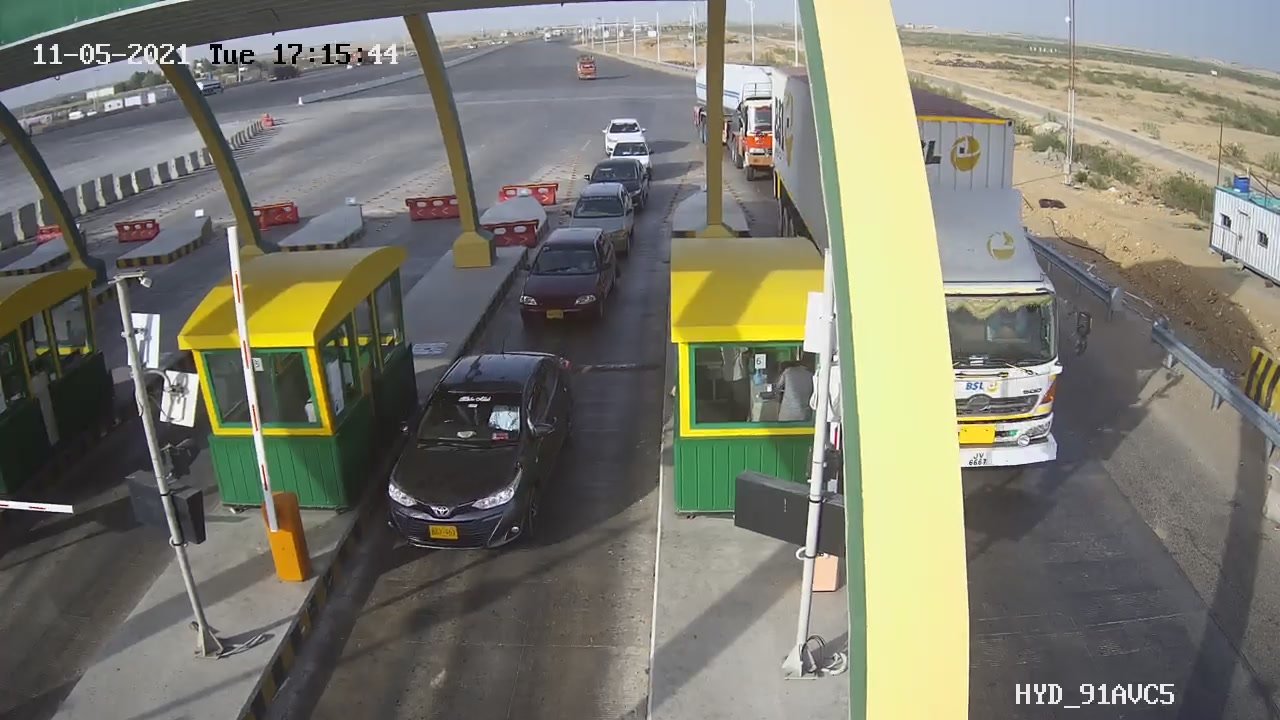F1: (369, 335, 589, 569), (501, 218, 633, 339)
